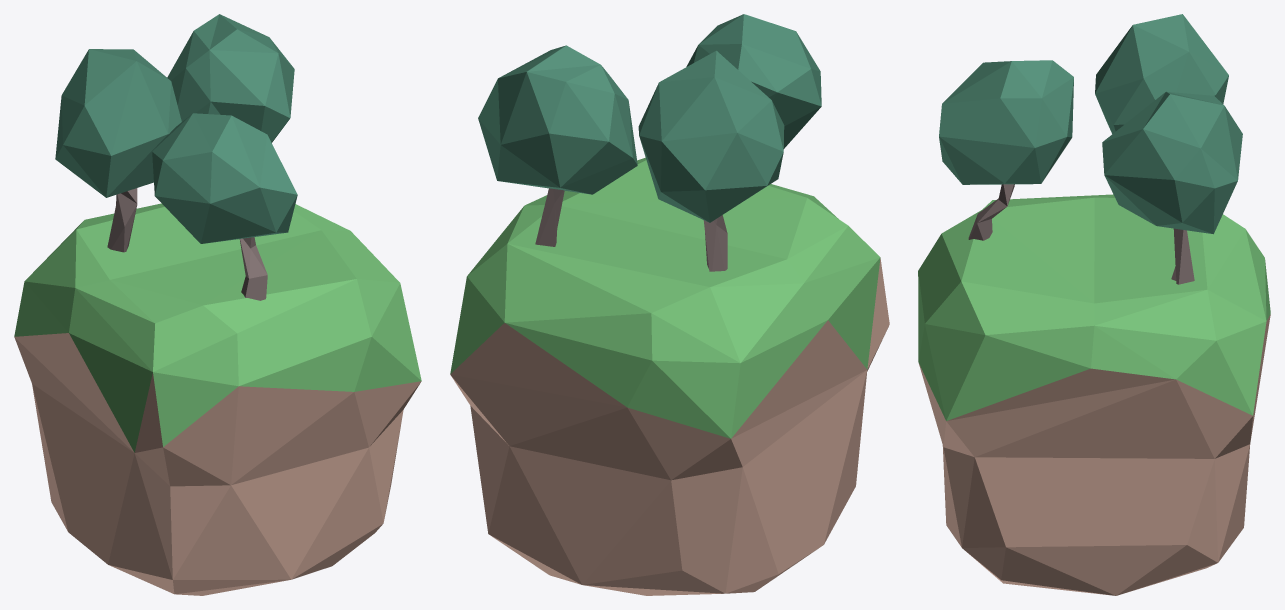
The model's file is Forest.fbx.
3 views of the same model, side by side, from view 1: azimuth 30°, elevation 25°; view 2: azimuth 150°, elevation 25°; view 3: azimuth 270°, elevation 25° (orthographic). The views are drawn at different scales.
Parts seen in each view (by area): view 1: Forest; view 2: Forest; view 3: Forest.
Part boxes in pixels (box(x1,y1,x2,y2)): Forest: box(14, 14, 421, 595); Forest: box(450, 14, 889, 595); Forest: box(918, 14, 1270, 595).
Size of the model in its own units: 112 by 190 by 115.
